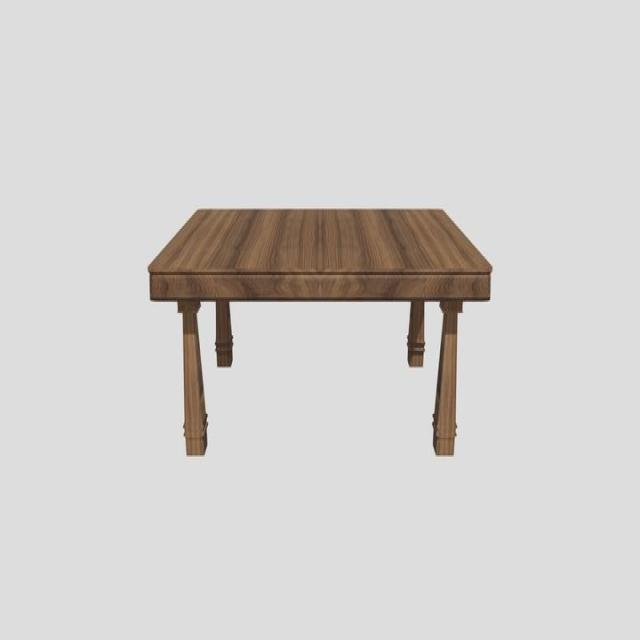table: (149, 204, 491, 458)
